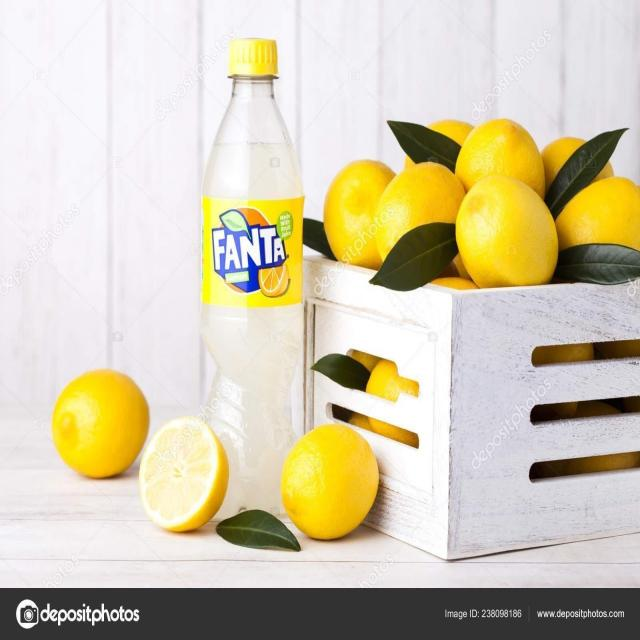bottle-plastic: (194, 32, 310, 500)
